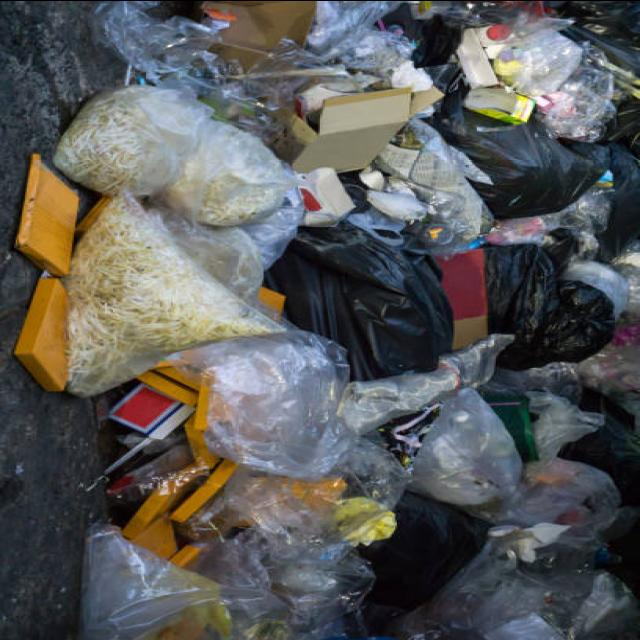garbage: (11, 2, 640, 640)
